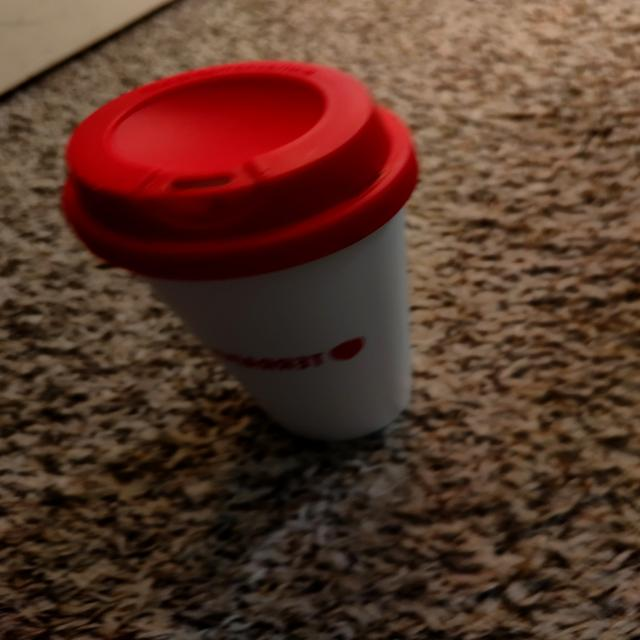mug: (74, 58, 406, 434)
